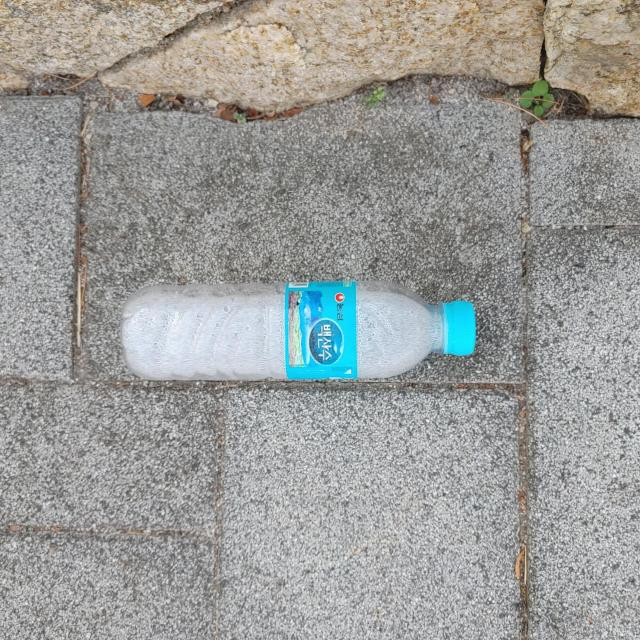plastic: (121, 281, 476, 381)
